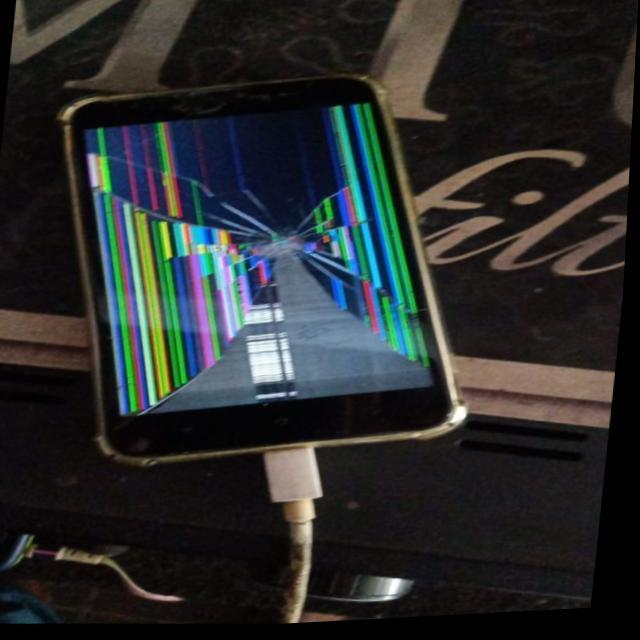Crack: (212, 198, 333, 284)
